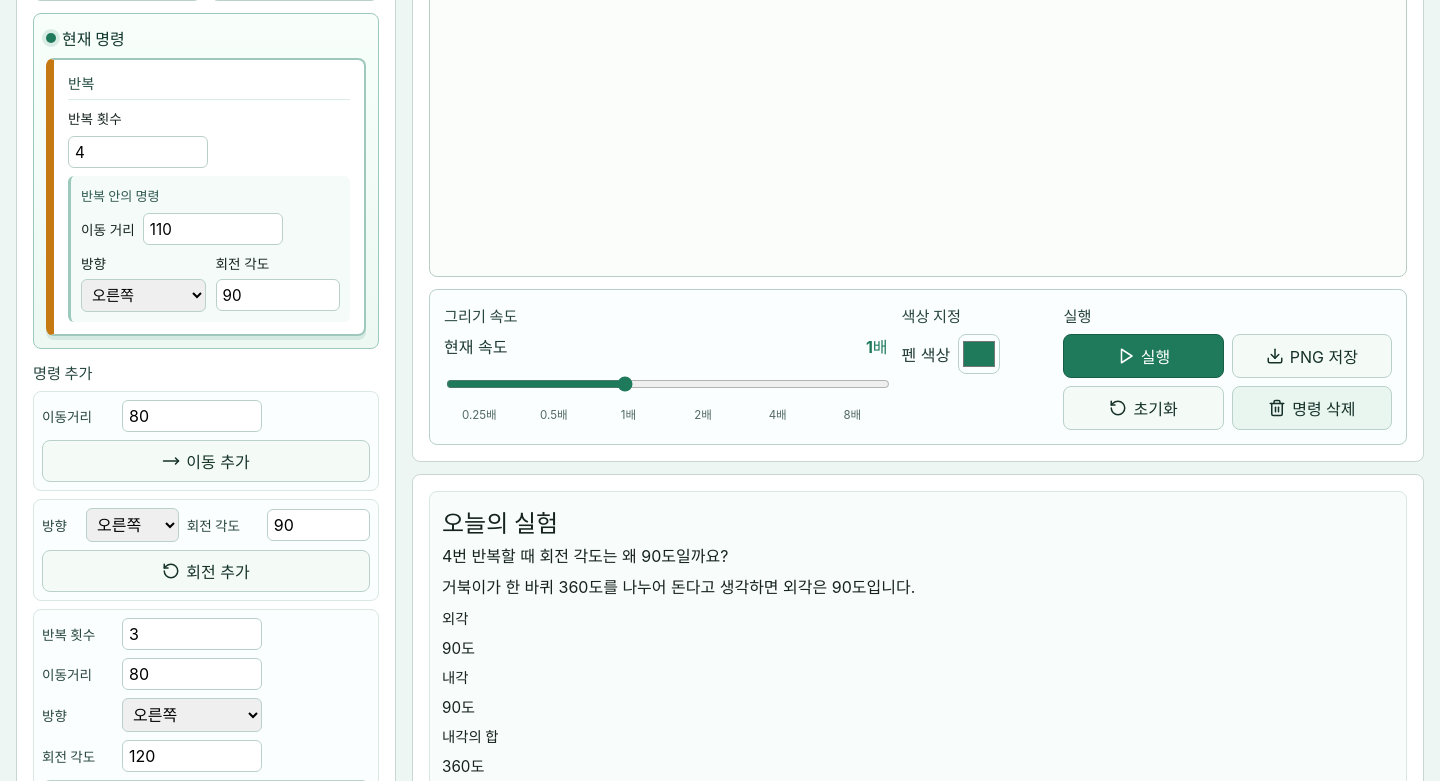
Test case: App › lets students choose one of the fixed drawing speeds
(page scrolled)
Set the slider named "그리기 속도" to "5" at (882, 384), box top-left (446, 376), bottom-right (890, 392)
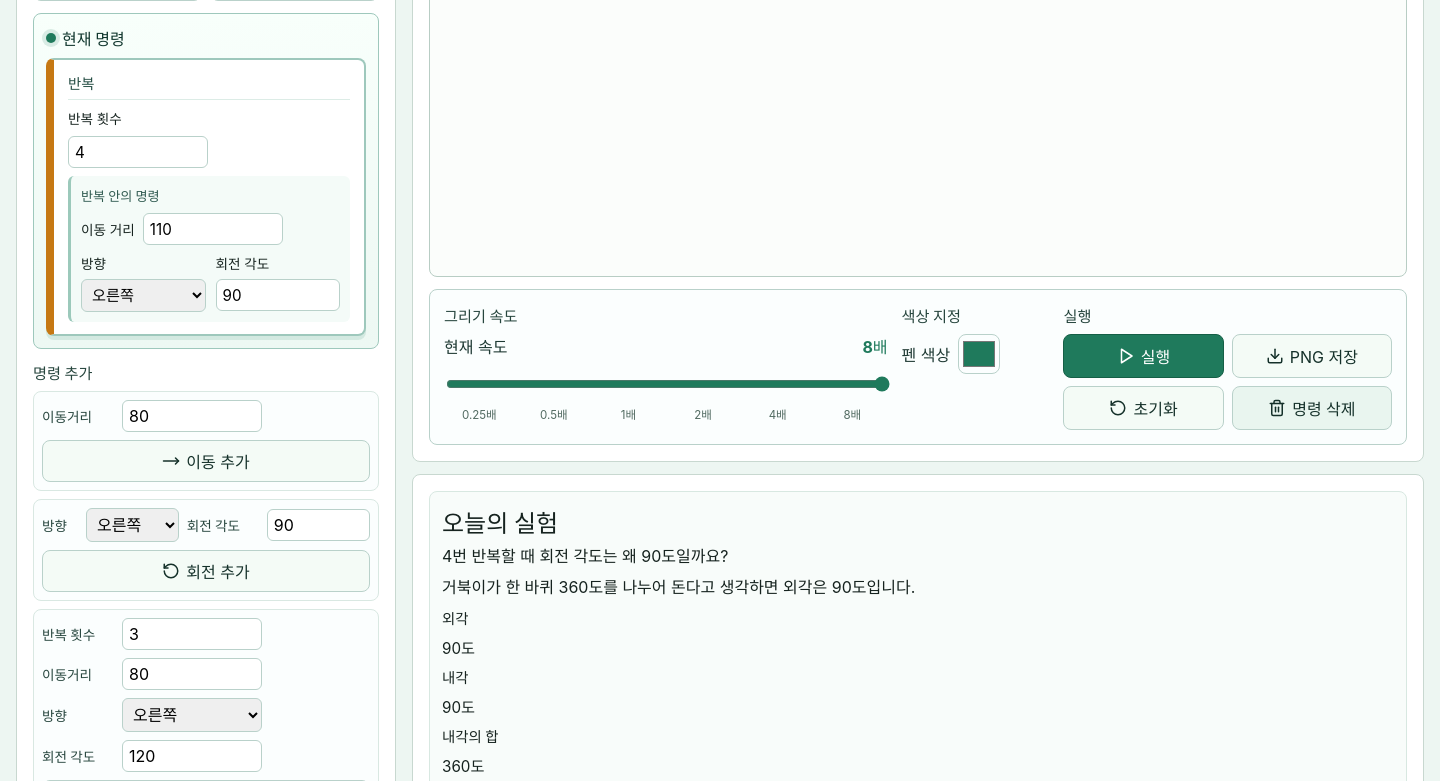
Check: the text "8배" in the row of "현재 속도" is shown, box top-left (862, 337), bottom-right (888, 357)
